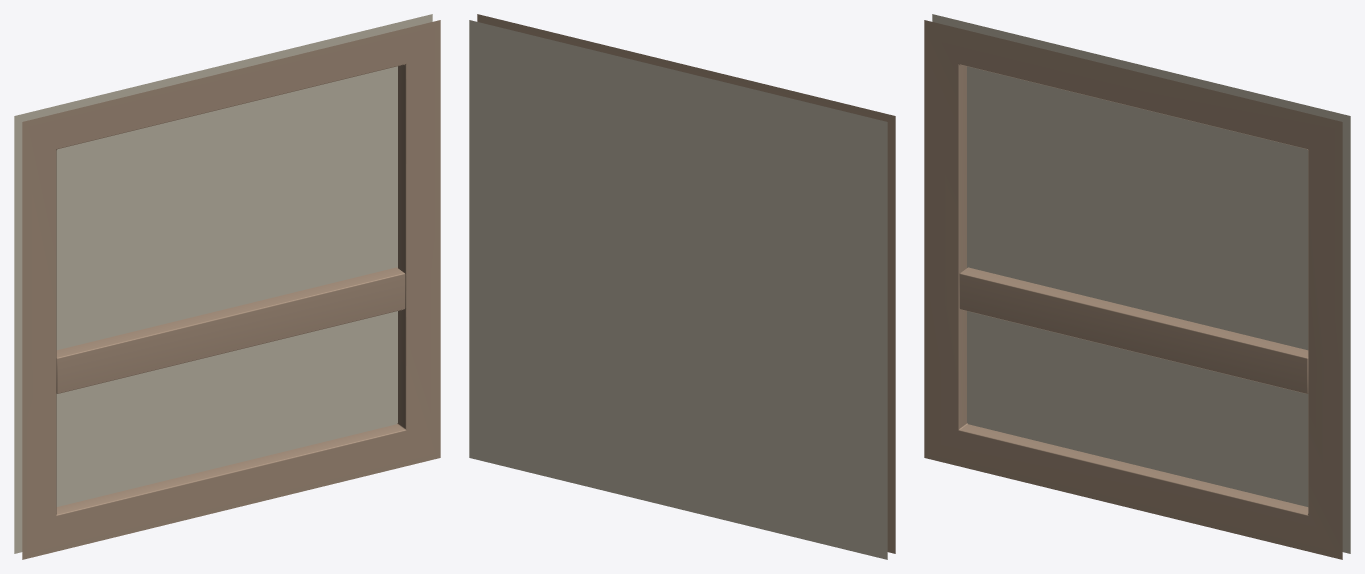
File: tav_wall.fbx
3 views of the same model, side by side, from view 1: azimuth 30°, elevation 25°; view 2: azimuth 150°, elevation 25°; view 3: azimuth 330°, elevation 25° (orthographic).
Parts seen in each view (by area): view 1: wall, wallframe1; view 2: wall, wallframe1; view 3: wall, wallframe1.
Part boxes in pixels (x1,y1,x2,y2): wall: [14, 14, 432, 553]; wallframe1: [22, 20, 440, 559]; wall: [469, 20, 887, 559]; wallframe1: [477, 14, 895, 553]; wall: [932, 14, 1350, 553]; wallframe1: [924, 20, 1342, 559].
Bounding box in the file's own units: 300 × 300 × 10.
